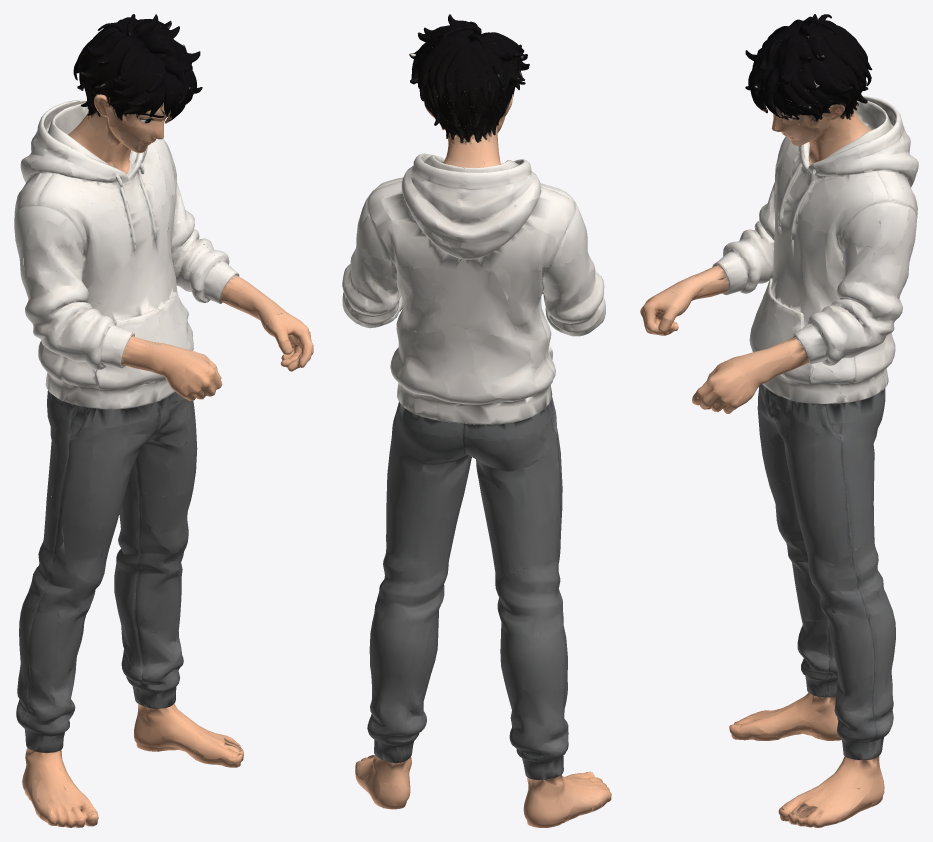
File: cooking.glb
3 renders of one model, left to right at view 1: azimuth 30°, elevation 25°; view 2: azimuth 150°, elevation 25°; view 3: azimuth 270°, elevation 25°, orthographic.
Visible parts, largest first — view 1: Cooking_Resident; view 2: Cooking_Resident; view 3: Cooking_Resident.
Boxes of the visible parts, x1,y1,x2,y2 form: Cooking_Resident: [14, 14, 313, 827]; Cooking_Resident: [342, 14, 611, 827]; Cooking_Resident: [640, 14, 918, 827].
Bounding box in the file's own units: 0.561 × 1.65 × 0.5481.
Materials: 1 (1 with a texture image).
